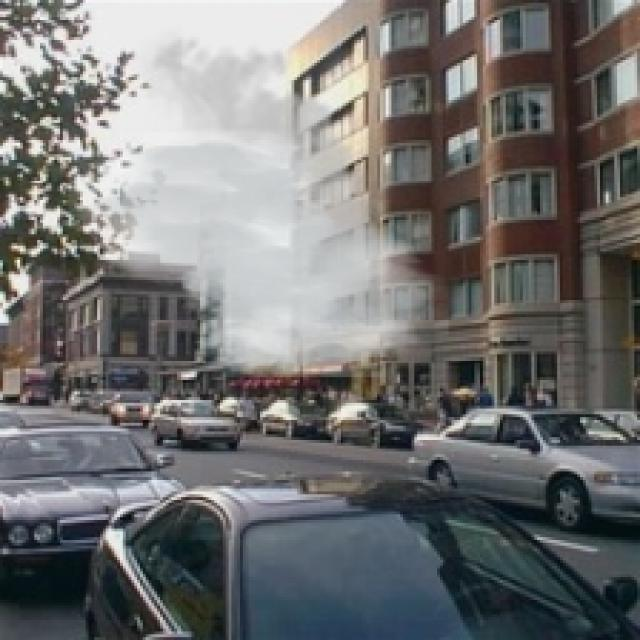smoke: (69, 26, 448, 377)
